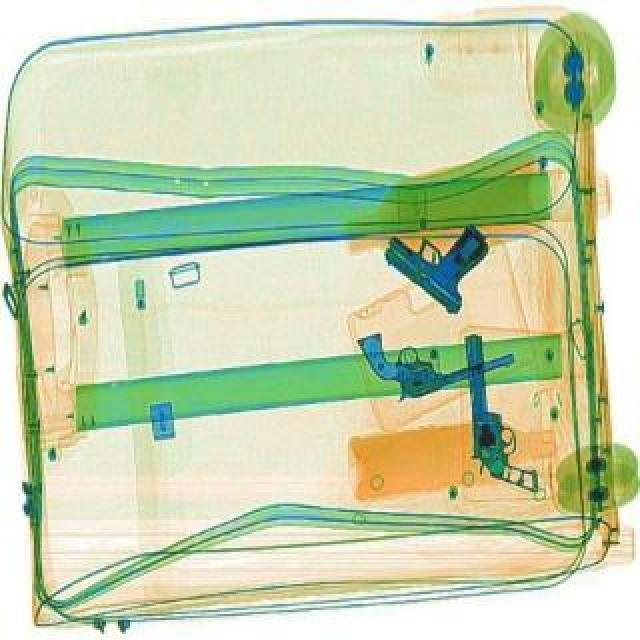gun: (370, 186, 514, 316), (354, 296, 518, 404), (464, 326, 538, 494)
